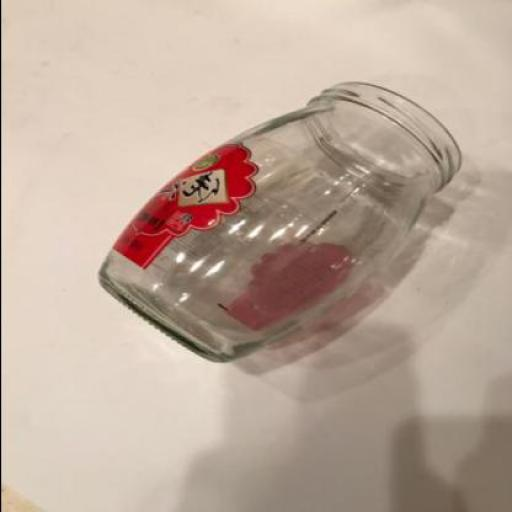glass: (96, 80, 458, 361)
